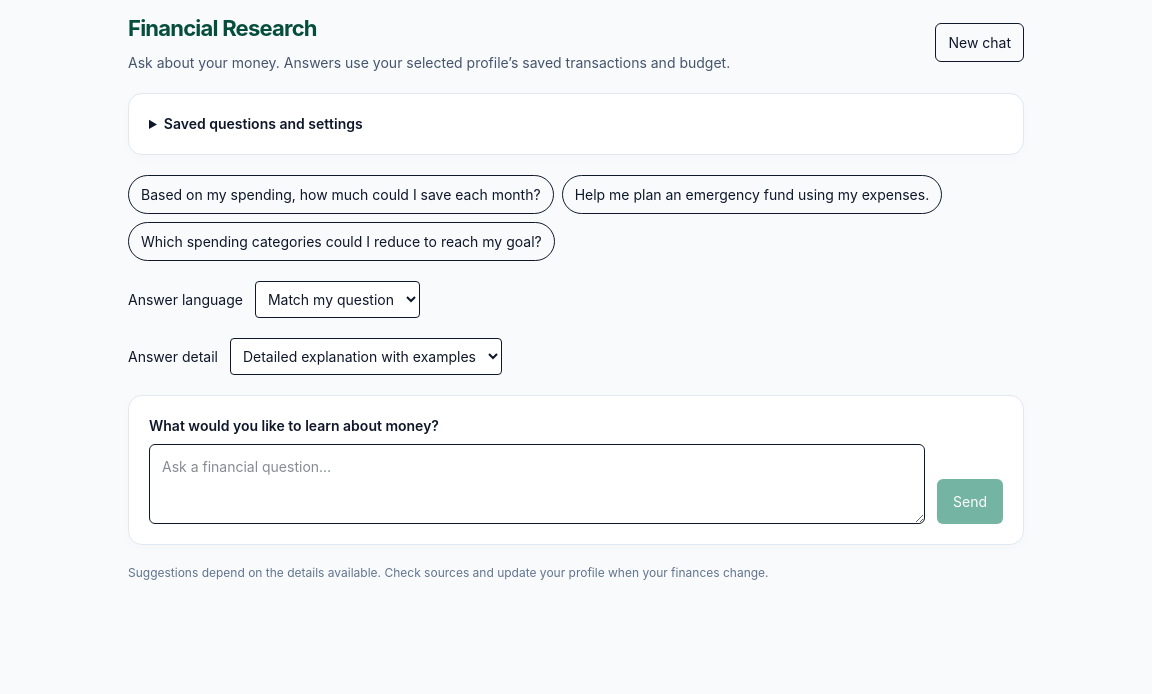
Scenario: Financial Research page › requests detailed sections by default and preserves explanatory paragraphs
Check: the dropdown labelled "Answer detail" shows "Detailed explanation with examples", box [230,338,502,375]
In the text box labelled "What would you like to learn about money?": (537, 484) [149,444,925,524], type "Explain emergency funds in detail"
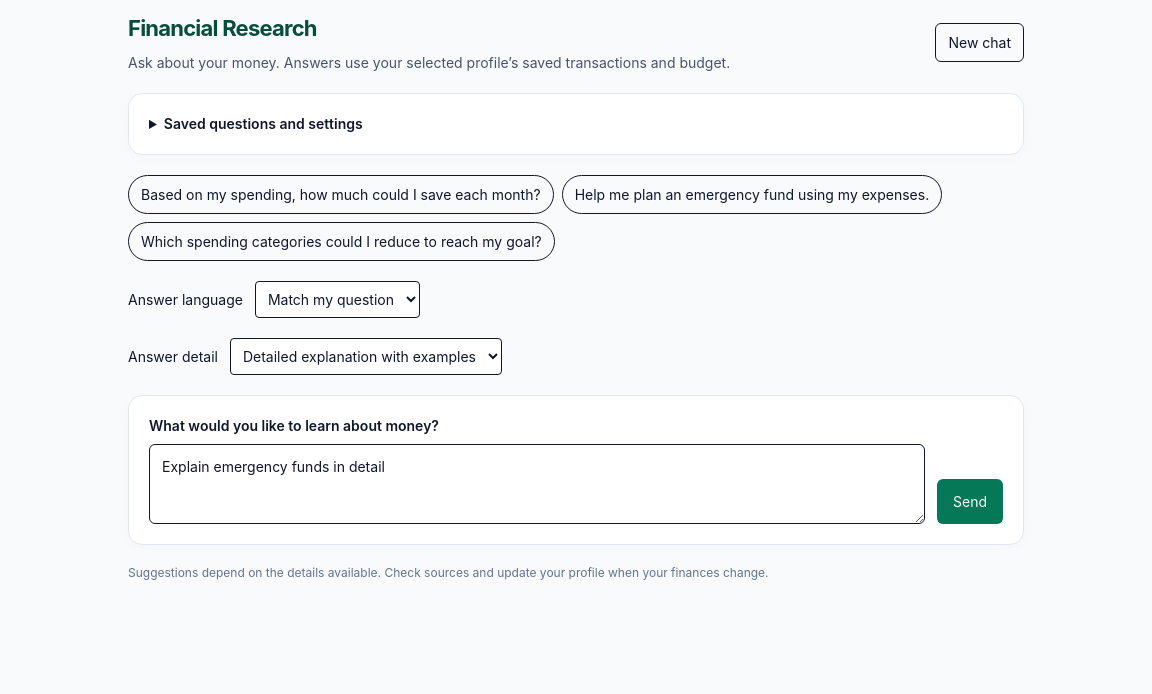
Click the button "Send": (970, 502) [937,479,1003,524]
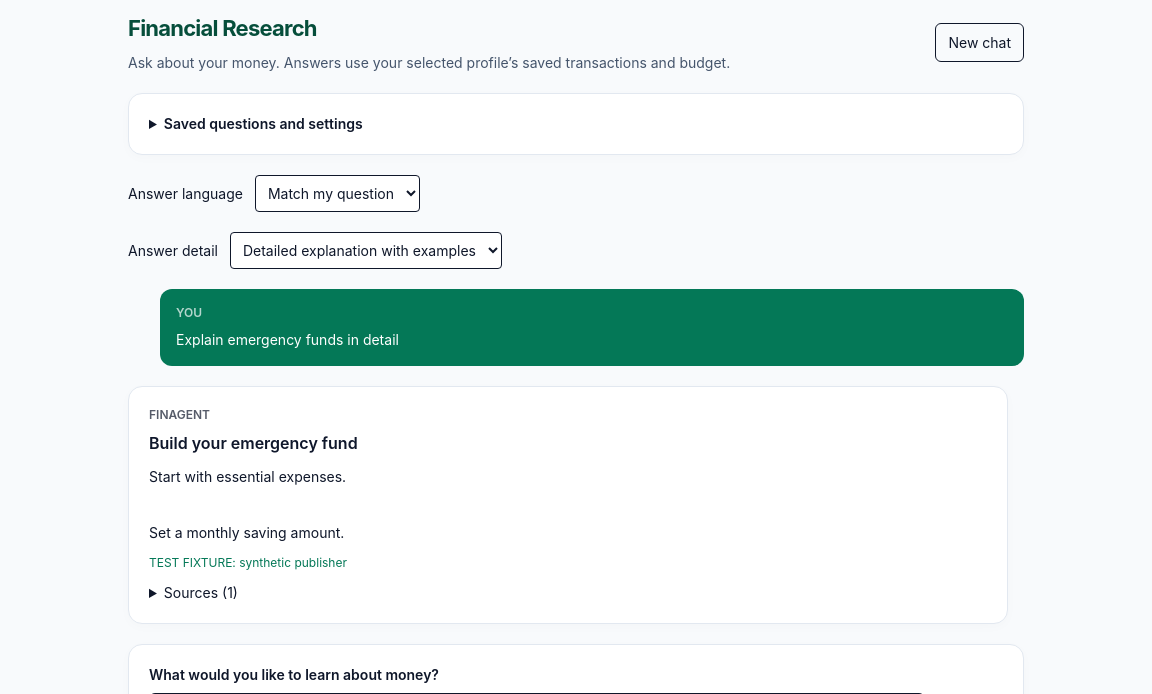
Check: the heading "Build your emergency fund" is shown, box [149,433,358,453]
